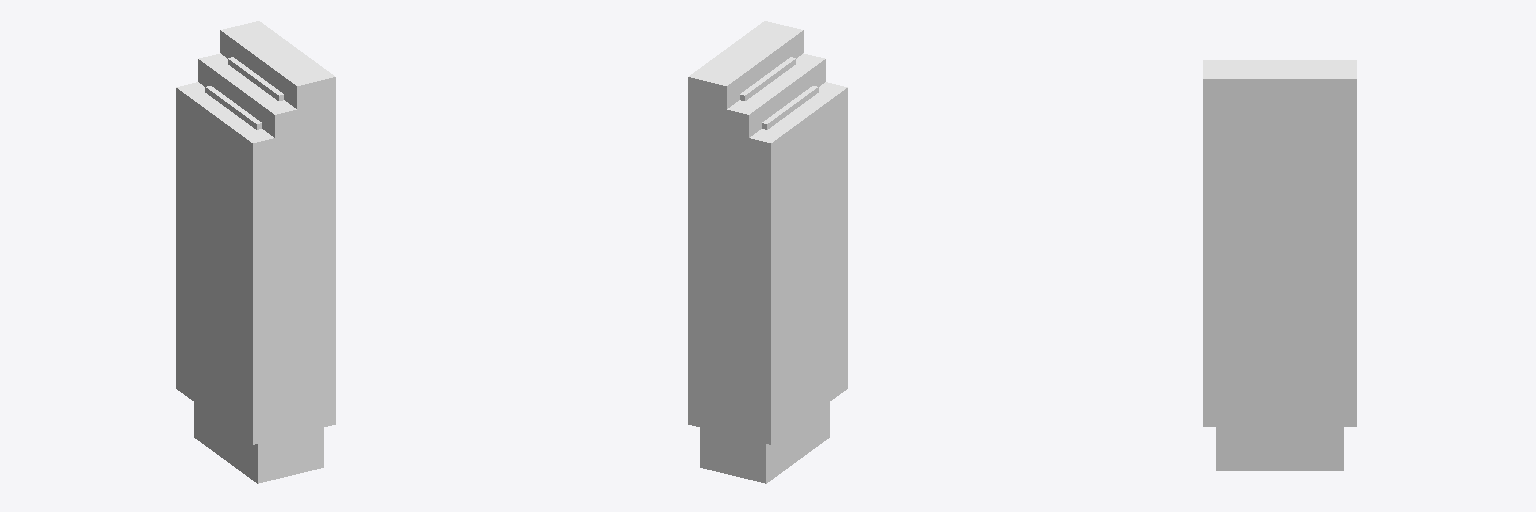
File: TEnemy-4.obj
The picture shows the model from 3 angles: view 1: azimuth 30°, elevation 25°; view 2: azimuth 150°, elevation 25°; view 3: azimuth 270°, elevation 25°; orthographic projection.
Parts seen in each view (by area): view 1: object 1; view 2: object 1; view 3: object 1.
Boxes of the visible parts, box(x1,y1,x2,y2) form: object 1: box(176, 21, 335, 483); object 1: box(688, 21, 847, 483); object 1: box(1203, 60, 1356, 470).
Size of the model in its own units: 1.5 by 6.8 by 2.4.